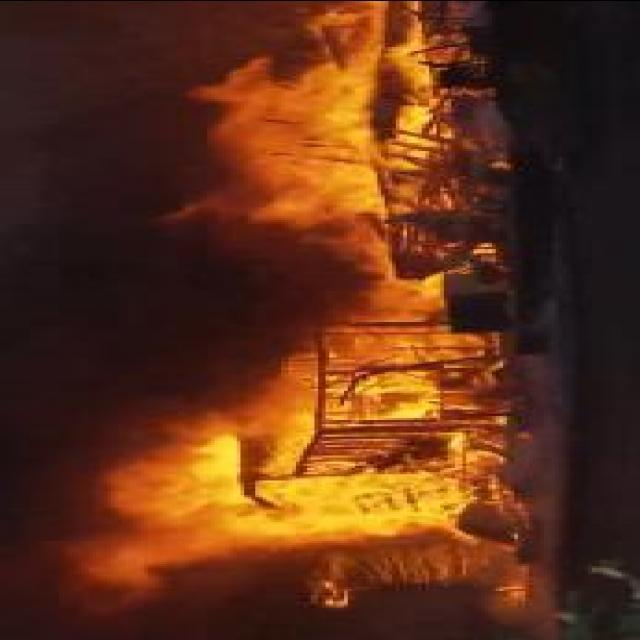Fire: (107, 9, 507, 548)
